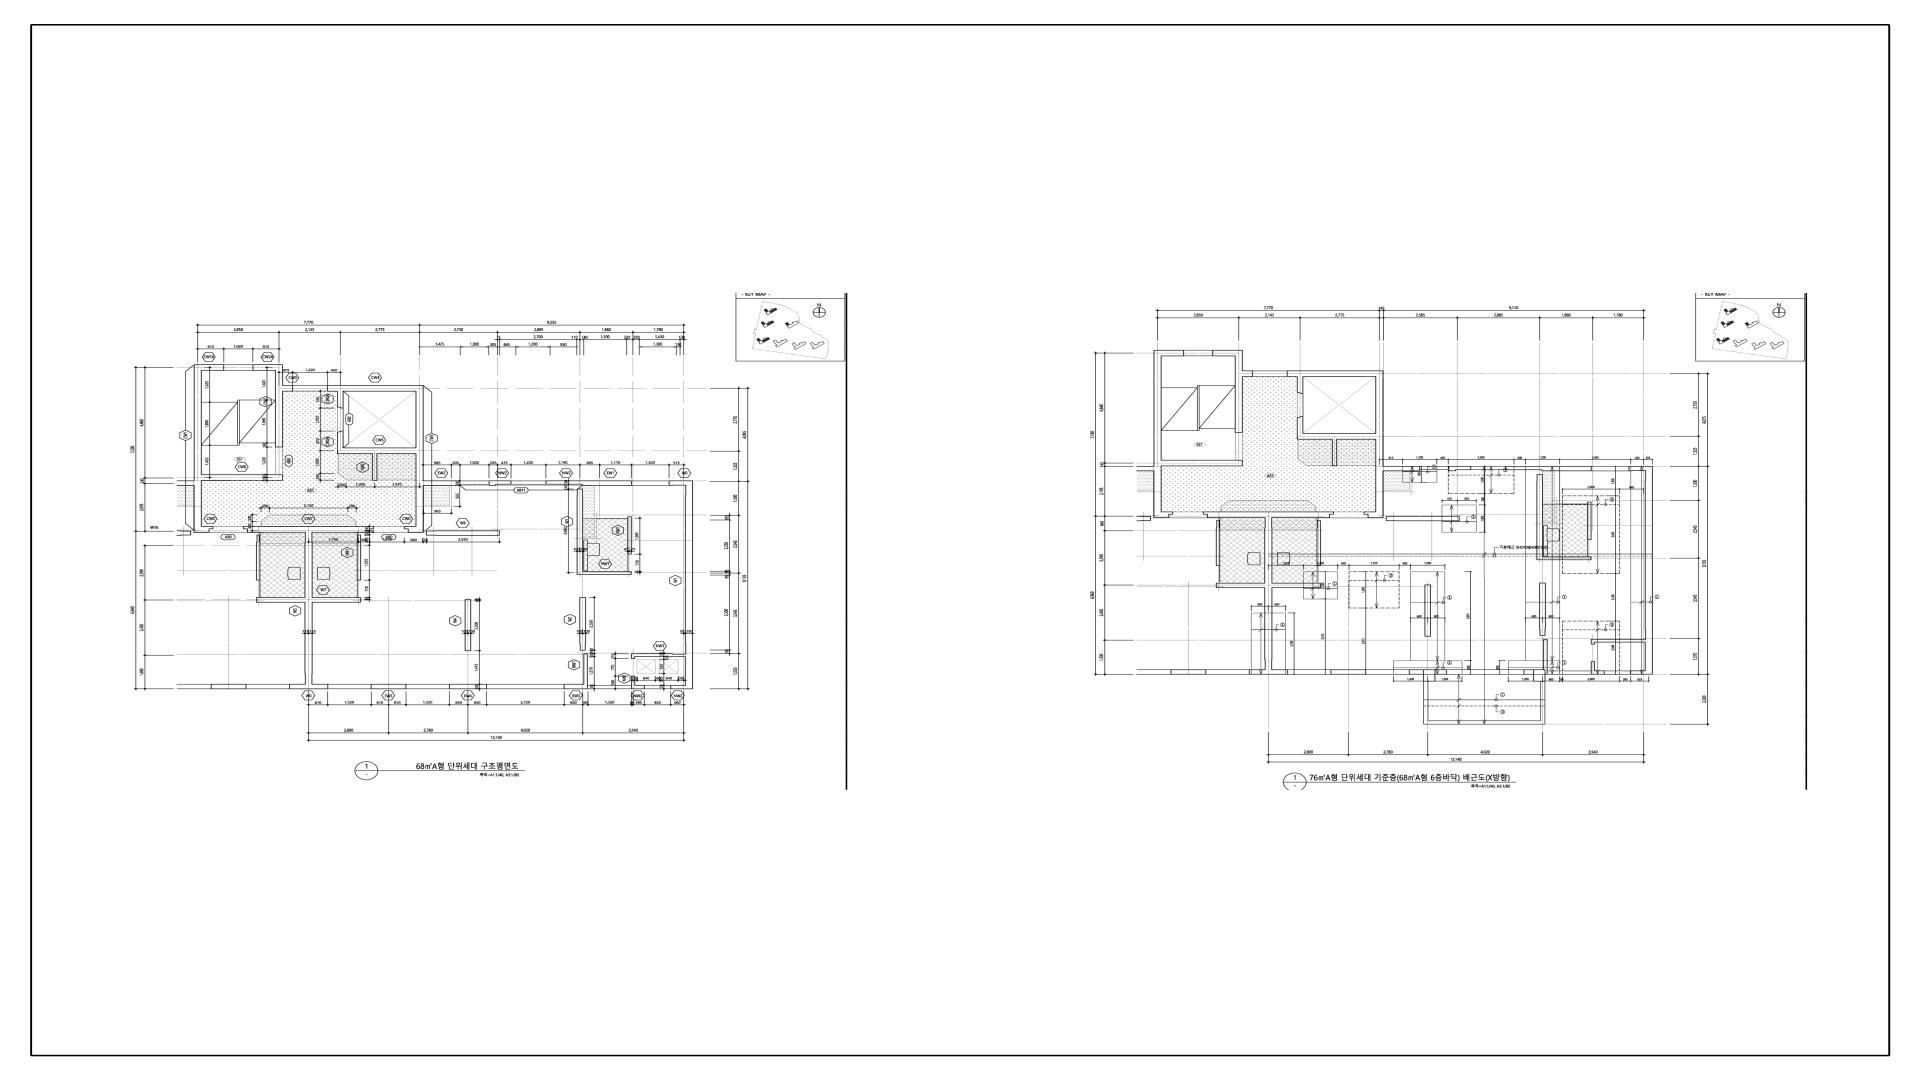wall: (685, 481, 693, 685), (1645, 471, 1653, 671), (1154, 356, 1162, 512), (194, 371, 202, 526), (1264, 518, 1272, 670), (305, 533, 313, 684), (1376, 371, 1384, 512), (416, 392, 424, 526), (243, 526, 374, 533), (1203, 512, 1334, 518), (327, 385, 424, 392), (1235, 356, 1243, 433), (275, 371, 283, 447), (202, 474, 283, 481), (1287, 371, 1376, 377), (1303, 433, 1376, 440), (1537, 474, 1543, 557), (577, 489, 583, 571), (1162, 460, 1243, 466), (1505, 466, 1592, 471), (344, 448, 416, 454), (546, 481, 632, 486), (579, 597, 586, 651), (1539, 583, 1546, 636), (426, 531, 500, 536), (1386, 516, 1460, 521), (465, 599, 471, 651), (1425, 585, 1431, 637), (313, 597, 361, 603), (1272, 583, 1321, 588), (577, 571, 632, 575), (194, 364, 224, 371), (253, 364, 283, 371), (1595, 639, 1645, 643), (449, 684, 487, 689), (627, 516, 632, 554), (1587, 502, 1592, 540), (1383, 466, 1420, 471), (1317, 520, 1321, 566), (357, 535, 361, 580), (424, 481, 460, 486), (1154, 350, 1184, 356), (1213, 350, 1243, 356), (1543, 639, 1548, 675), (371, 684, 406, 689), (1331, 670, 1366, 675), (1537, 557, 1592, 560), (337, 431, 344, 454), (635, 654, 685, 657), (1470, 670, 1500, 675), (1297, 416, 1303, 440), (404, 526, 424, 533), (372, 454, 377, 481), (1332, 439, 1337, 466), (194, 526, 213, 533), (564, 684, 588, 689), (584, 654, 588, 684), (1364, 512, 1384, 518), (1629, 466, 1653, 471), (305, 684, 328, 689), (1265, 670, 1288, 675), (1154, 512, 1173, 518), (337, 392, 344, 408), (489, 481, 511, 486), (1449, 466, 1471, 471), (1297, 377, 1303, 394), (670, 685, 693, 689), (1630, 671, 1653, 675), (669, 481, 685, 486), (283, 385, 293, 392), (1409, 670, 1423, 675), (1423, 670, 1436, 675), (1533, 670, 1546, 675), (1243, 371, 1253, 377), (1435, 670, 1447, 675), (631, 685, 645, 689), (1591, 671, 1605, 675), (1524, 670, 1533, 675), (1591, 661, 1595, 671), (631, 676, 635, 685), (1591, 639, 1595, 645), (631, 654, 635, 659)
